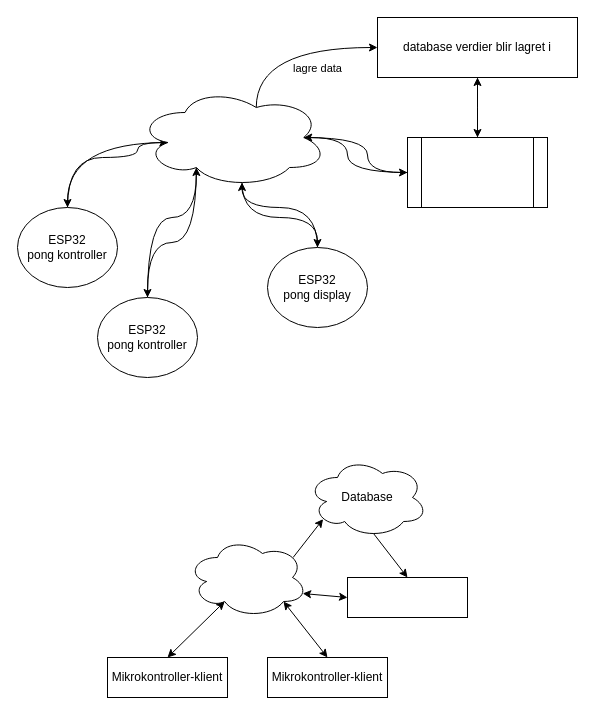
Some shapes in this 595 by 715 pixel diagram are drawn without their labels. Here are the shapes that lost their labels. From the top down, the box of each, then its label:
(136, 86, 328, 188): Raspberry Pi server
(406, 136, 548, 208): Kontroll interface (på pc)
(186, 536, 308, 618): Server
(346, 576, 468, 618): Kontrollpanel
